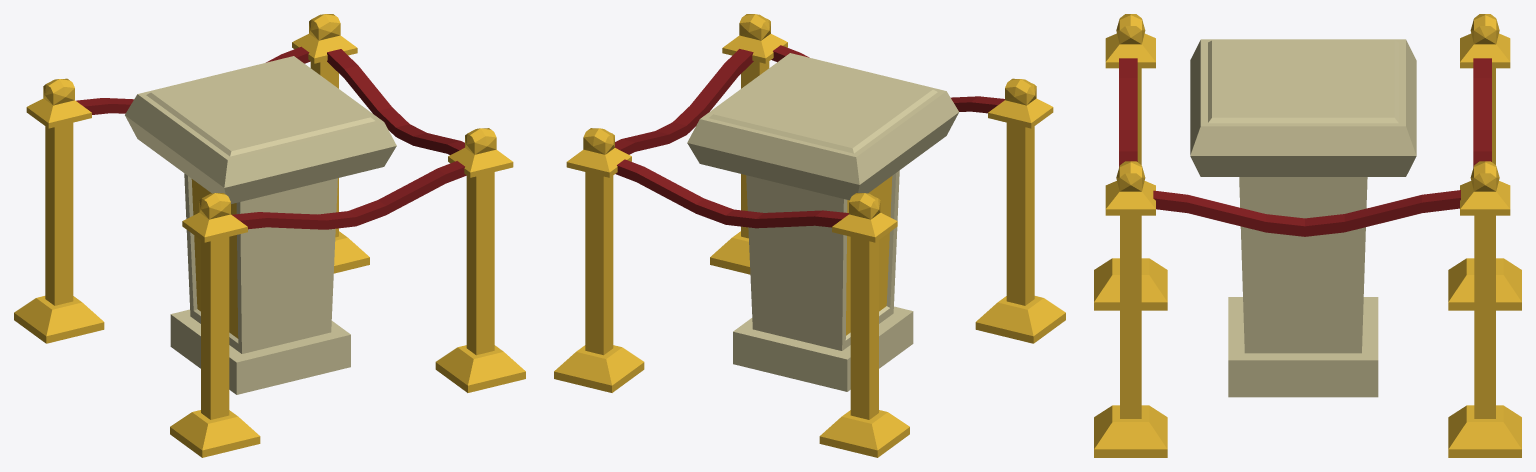
Rendered from Podium.fbx.
The picture shows the model from 3 angles, left to right: view 1: azimuth 30°, elevation 25°; view 2: azimuth 150°, elevation 25°; view 3: azimuth 270°, elevation 25°; orthographic projection. The views are drawn at different scales.
Parts seen in each view (by area): view 1: Cube.002, Cube.008, Cube.003, Cube.006, Cube.007, Cube.005, Cube.009, Cube.004; view 2: Cube.002, Cube.003, Cube.008, Cube.005, Cube.004, Cube.006, Cube.009, Cube.007; view 3: Cube.002, Cube.005, Cube.006, Cube.009, Cube.008, Cube.003, Cube.004, Cube.007.
Part boxes in pixels (x1,y1,x2,y2): Cube.002: (125,56,396,394); Cube.008: (170,193,260,457); Cube.003: (14,78,104,343); Cube.006: (435,128,525,392); Cube.007: (232,161,466,229); Cube.005: (292,14,369,273); Cube.009: (327,49,464,154); Cube.004: (76,46,310,114); Cube.002: (687,53,958,391); Cube.003: (819,193,909,457); Cube.008: (975,78,1065,343); Cube.005: (554,128,644,392); Cube.004: (615,159,848,228); Cube.006: (710,14,787,274); Cube.009: (615,49,753,154); Cube.007: (771,45,1004,113); Cube.002: (1190,39,1416,397); Cube.005: (1448,161,1521,457); Cube.006: (1094,161,1167,457); Cube.009: (1153,190,1460,236); Cube.008: (1094,14,1167,310); Cube.003: (1448,14,1521,310); Cube.004: (1473,58,1491,167); Cube.007: (1119,58,1137,167).
Size of the model in its own units: 805 by 599 by 811.
